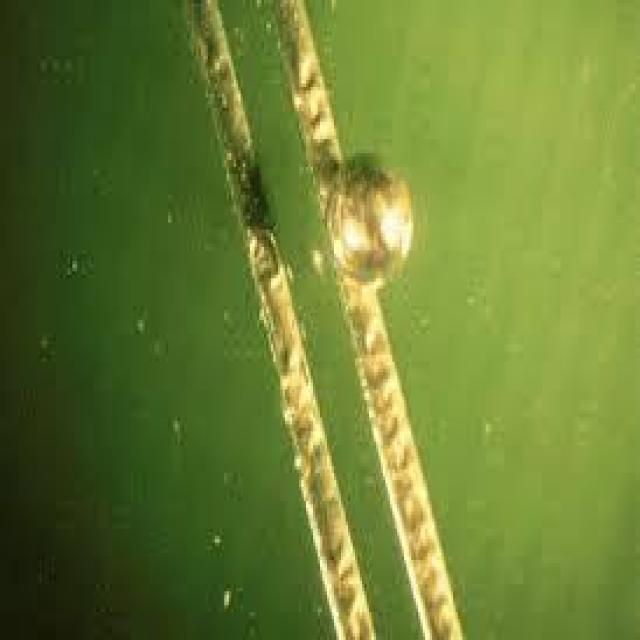redundant: (334, 166, 411, 280)
